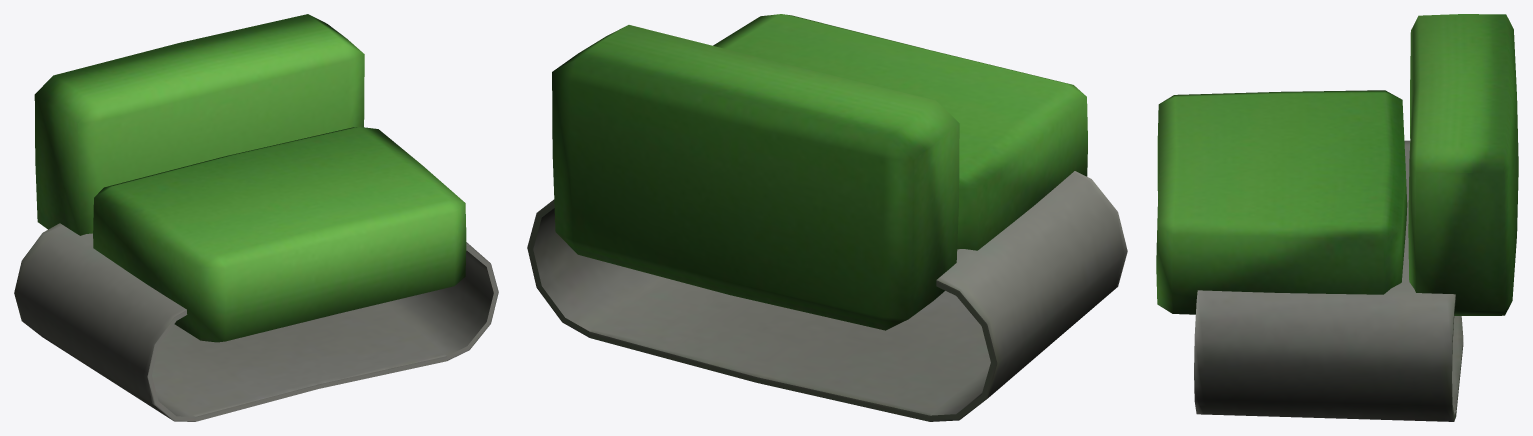
File: NetW_Chair1P04.FBX
The picture shows the model from 3 angles, left to right: view 1: azimuth 30°, elevation 25°; view 2: azimuth 150°, elevation 25°; view 3: azimuth 270°, elevation 25°; orthographic projection. The views are drawn at different scales.
Parts seen in each view (by area): view 1: NetW_Chair1P03; view 2: NetW_Chair1P03; view 3: NetW_Chair1P03.
Boxes of the visible parts, x1,y1,x2,y2 form: NetW_Chair1P03: (14,14,498,421); NetW_Chair1P03: (527,14,1127,421); NetW_Chair1P03: (1156,14,1518,421).
Bounding box in the file's own units: 1.16 × 0.7159 × 0.8879.
